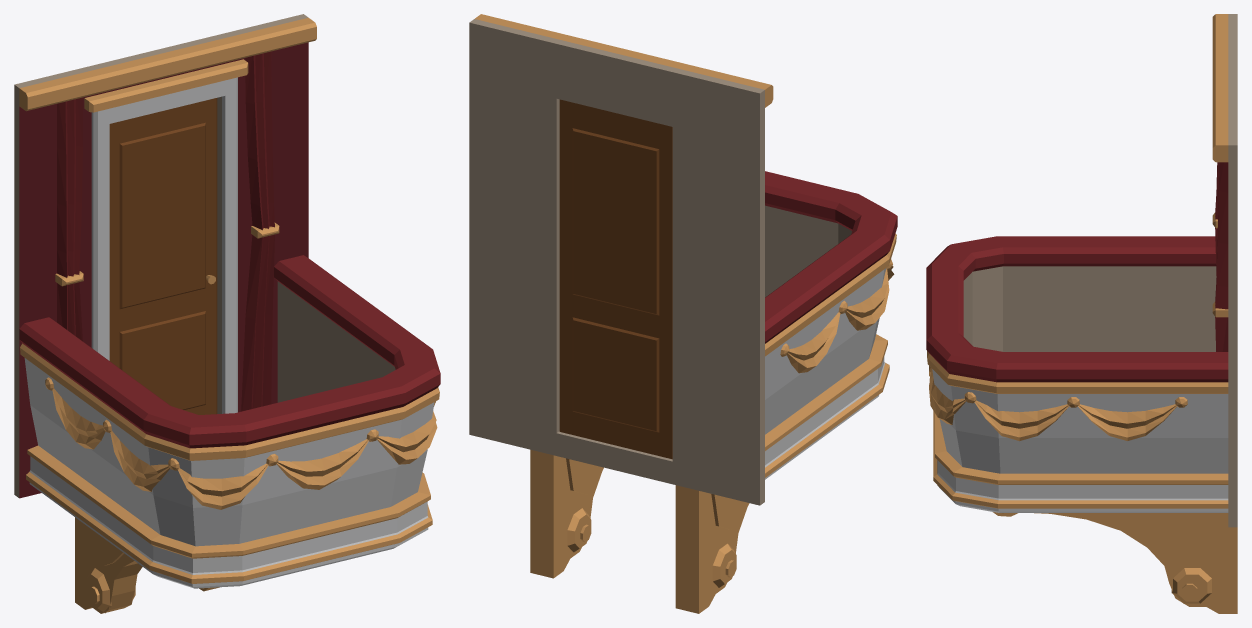
Rendered from opera-box-tier-d7fdd1.glb.
3 views of the same model, side by side, from view 1: azimuth 30°, elevation 25°; view 2: azimuth 150°, elevation 25°; view 3: azimuth 270°, elevation 25° (orthographic). The views are drawn at different scales.
Visible parts, largest first — view 1: opera-box-body, door-leaf; view 2: opera-box-body, door-leaf; view 3: opera-box-body.
Boxes of the visible parts, left/top/right/bottom form: opera-box-body: left=14, top=14, right=440, bottom=613; door-leaf: left=109, top=98, right=217, bottom=414; opera-box-body: left=469, top=14, right=897, bottom=613; door-leaf: left=559, top=99, right=672, bottom=459; opera-box-body: left=926, top=14, right=1237, bottom=613.
Bounding box in the file's own units: 2 × 3.52 × 2.
